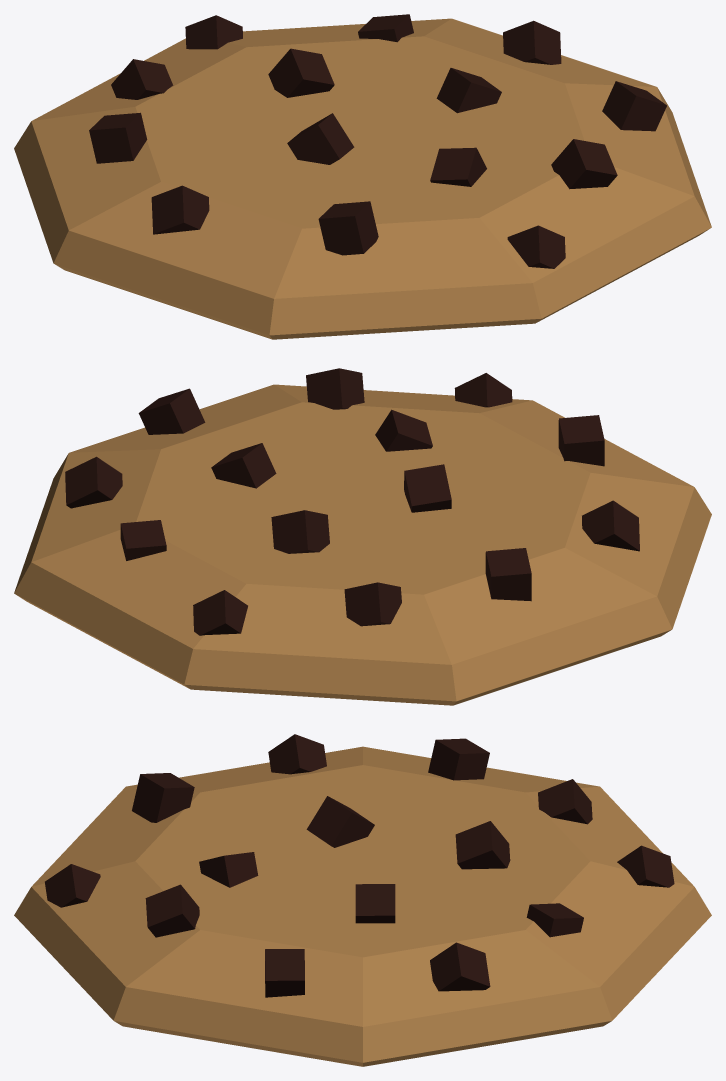
File: cookie.fbx
3 views of the same model, one above another, from view 1: azimuth 30°, elevation 25°; view 2: azimuth 150°, elevation 25°; view 3: azimuth 270°, elevation 25° (orthographic). The views are drawn at different scales.
Visible parts, largest first — view 1: cookie; view 2: cookie; view 3: cookie.
Boxes of the visible parts, x1,y1,x2,y2 form: cookie: (14, 14, 711, 339); cookie: (14, 368, 711, 705); cookie: (14, 734, 711, 1066).
Size of the model in its own units: 164 by 26.12 by 164.
